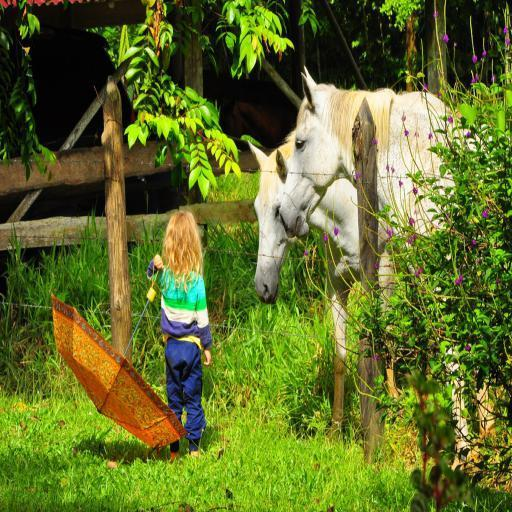horse: (276, 64, 512, 472), (254, 126, 396, 444)
